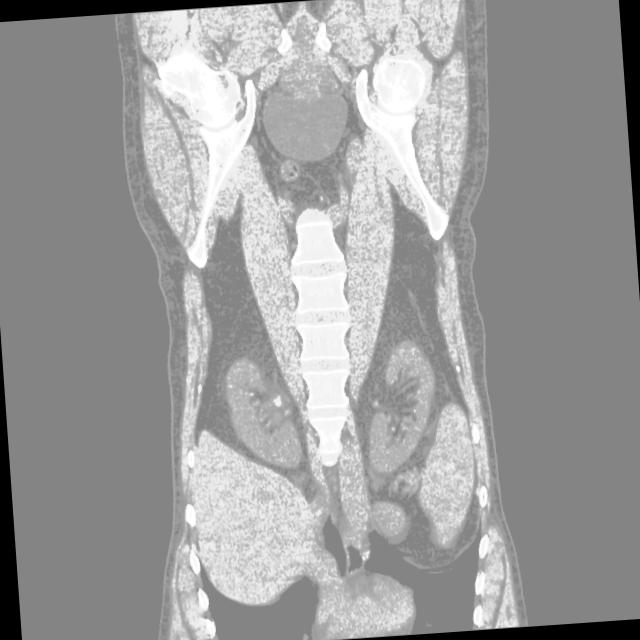STONE: (204, 203, 455, 475)
